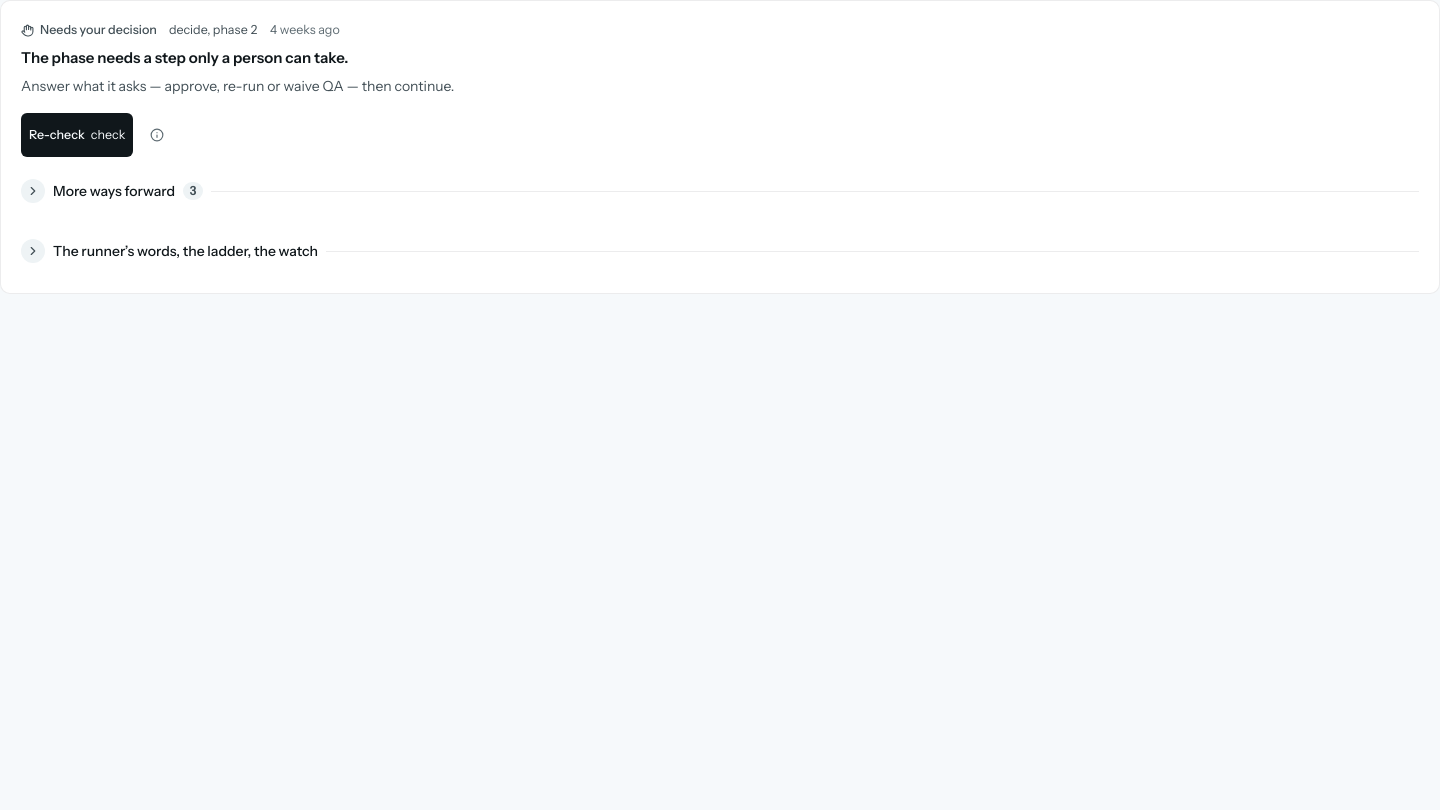
Test: the card names the family, one sentence, and the ONE recommended recovery › decision: the recommended verb is drawn first and alone — every other way forward is one press behind it
The width and height of the screenshot is (1440, 810).
Expected: the button "Retry from scratch" is not shown
Expected: the button "Retry with edits…" is not shown
Click the text "More ways forward" at coordinates (114, 191), box [53,181,175,202]
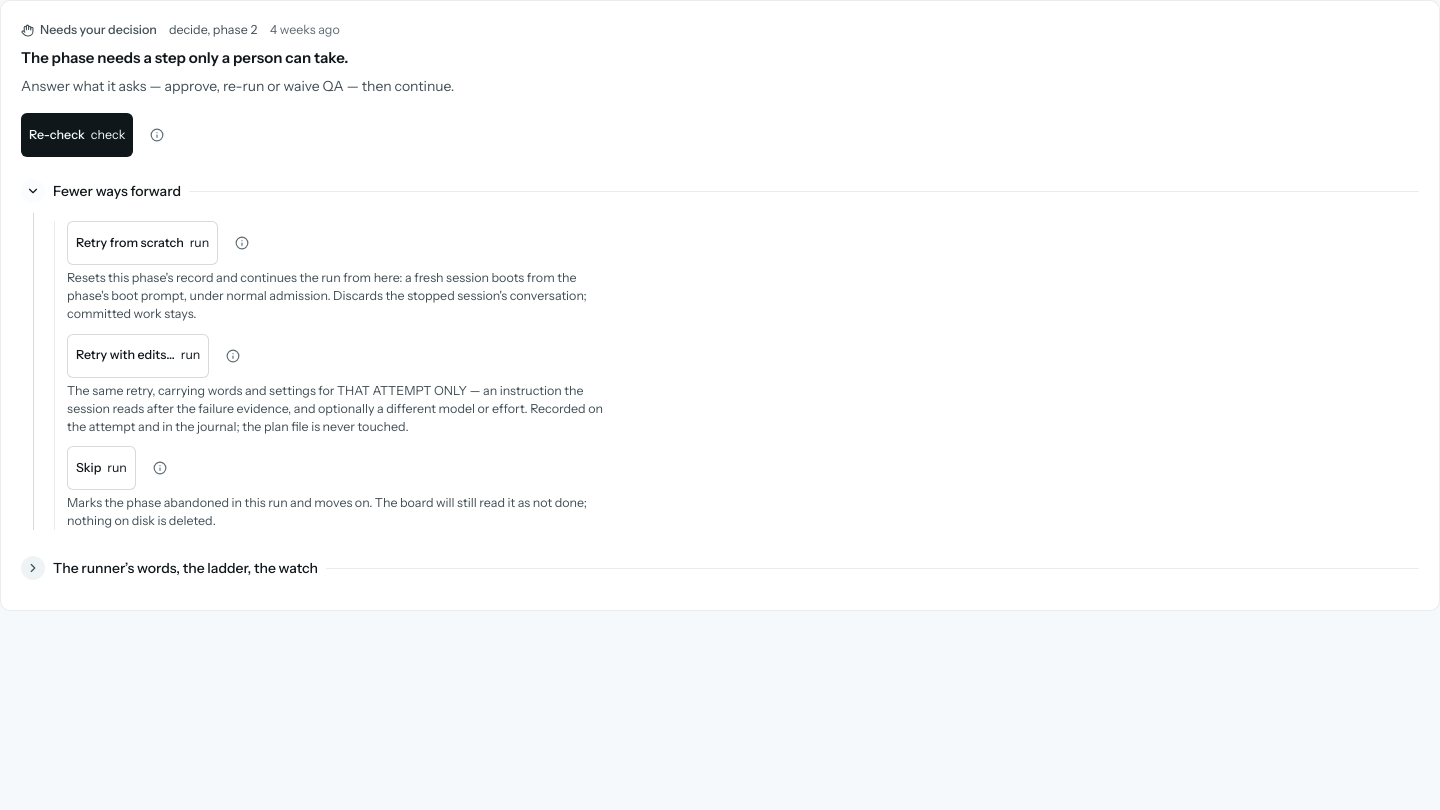
Expected: the button "Retry from scratch run" is shown, [67,221,218,265]
Expected: the button "Retry with edits… run" is shown, [67,334,209,378]
Expected: the button "Skip run" is shown, [67,446,136,490]
